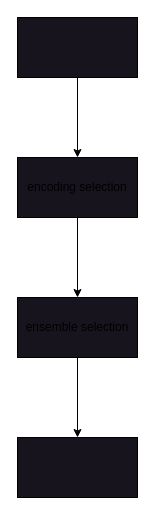
Some shapes in this 155 by 515 pixel diagram are drawn without their labels. Here are the shapes that lost their labels. From the top down, the centre of each, then its label:
point (77, 47): preprocessing
point (77, 467): label smoothing selection
